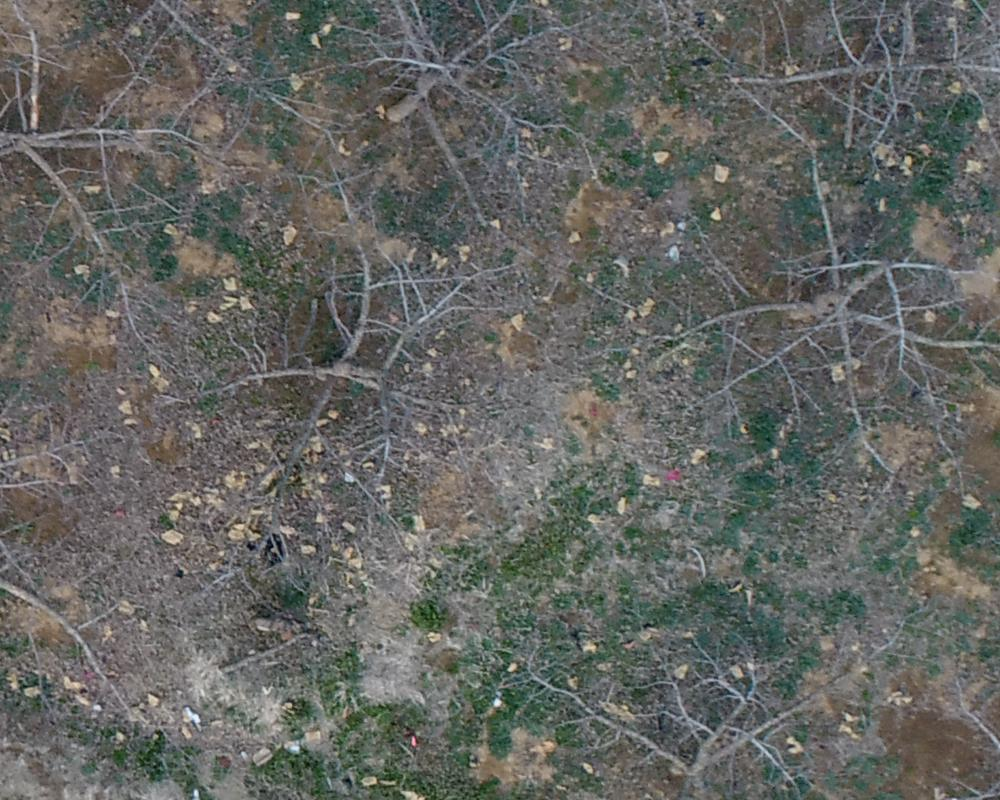apple: (638, 113, 990, 481), (160, 189, 483, 546), (10, 10, 232, 321), (520, 594, 857, 790), (316, 10, 590, 234)
